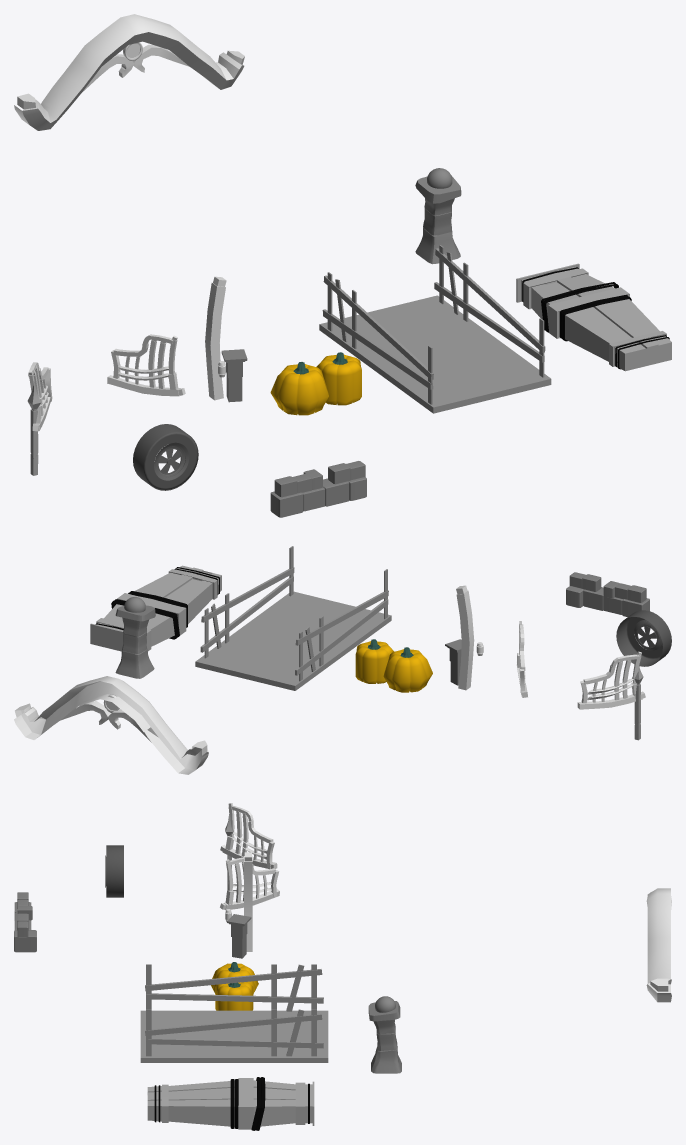
Rendered from ctr 2k objects.fbx.
3 views of the same model, one above another, from view 1: azimuth 30°, elevation 25°; view 2: azimuth 150°, elevation 25°; view 3: azimuth 270°, elevation 25° (orthographic). The views are drawn at different scales.
Visible parts, largest first — view 1: my_old_tire:cart, coffin, my_old_tire:gat_top, pCube10, my_old_tire:statue, rod13, loftedSurface21, my_old_tire:pumkins, my_old_tire:PUMKIN, my_old_tire:rod, rod14, my_old_tire:square_pillar (+1 smaller); view 2: my_old_tire:cart, my_old_tire:gat_top, coffin, pCube10, my_old_tire:statue, rod14, loftedSurface21, my_old_tire:pumkins, my_old_tire:rod, my_old_tire:PUMKIN, my_old_tire:my_old_tire:loftedSurface21, my_old_tire:square_pillar (+2 smaller); view 3: my_old_tire:cart, coffin, my_old_tire:gat_top, my_old_tire:statue, rod14, rod13, pCube10, loftedSurface21, my_old_tire:PUMKIN, my_old_tire:rod, my_old_tire:square_pillar, my_old_tire:pumkins.
Part boxes in pixels (x1=…): my_old_tire:cart: x1=319, y1=245, x2=551, y2=413; coffin: x1=516, y1=263, x2=671, y2=371; my_old_tire:gat_top: x1=14, y1=14, x2=244, y2=130; pCube10: x1=270, y1=461, x2=366, y2=517; my_old_tire:statue: x1=415, y1=168, x2=461, y2=264; rod13: x1=107, y1=334, x2=185, y2=396; loftedSurface21: x1=133, y1=424, x2=198, y2=490; my_old_tire:pumkins: x1=270, y1=362, x2=328, y2=415; my_old_tire:PUMKIN: x1=316, y1=352, x2=361, y2=405; my_old_tire:rod: x1=205, y1=276, x2=226, y2=400; rod14: x1=28, y1=362, x2=52, y2=431; my_old_tire:square_pillar: x1=221, y1=349, x2=247, y2=402; my_old_tire:cart: x1=195, y1=546, x2=391, y2=690; my_old_tire:gat_top: x1=14, y1=676, x2=208, y2=774; coffin: x1=90, y1=565, x2=221, y2=651; pCube10: x1=566, y1=572, x2=649, y2=616; my_old_tire:statue: x1=115, y1=597, x2=155, y2=678; rod14: x1=577, y1=651, x2=645, y2=709; loftedSurface21: x1=616, y1=610, x2=671, y2=666; my_old_tire:pumkins: x1=383, y1=647, x2=432, y2=692; my_old_tire:rod: x1=456, y1=585, x2=474, y2=690; my_old_tire:PUMKIN: x1=355, y1=639, x2=394, y2=683; my_old_tire:my_old_tire:loftedSurface21: x1=634, y1=619, x2=662, y2=650; my_old_tire:square_pillar: x1=445, y1=639, x2=461, y2=685; my_old_tire:cart: x1=140, y1=964, x2=328, y2=1062; coffin: x1=147, y1=1078, x2=314, y2=1129; my_old_tire:gat_top: x1=646, y1=888, x2=671, y2=1002; my_old_tire:statue: x1=368, y1=996, x2=401, y2=1073; rod14: x1=220, y1=803, x2=277, y2=869; rod13: x1=220, y1=857, x2=279, y2=910; pCube10: x1=14, y1=892, x2=36, y2=952; loftedSurface21: x1=106, y1=845, x2=123, y2=897; my_old_tire:PUMKIN: x1=215, y1=982, x2=253, y2=1010; my_old_tire:rod: x1=244, y1=852, x2=252, y2=951; my_old_tire:square_pillar: x1=227, y1=914, x2=251, y2=958; my_old_tire:pumkins: x1=211, y1=962, x2=258, y2=993.
Size of the model in its own units: 29.72 by 8.17 by 33.8.
